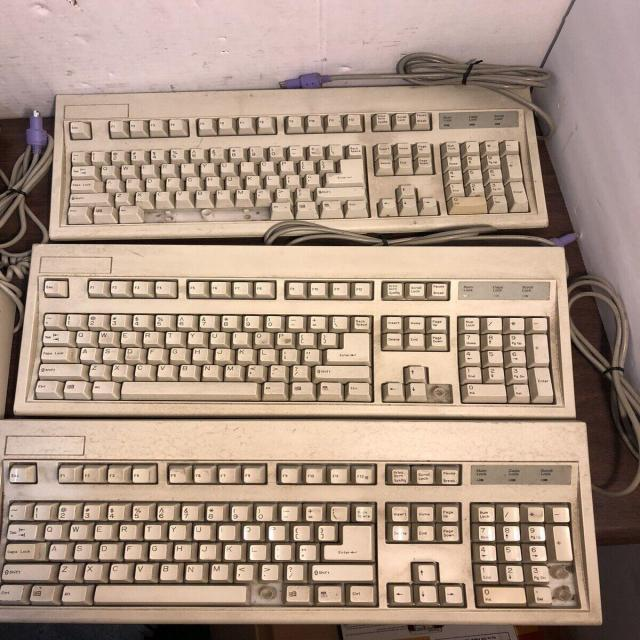keyboard: (0, 424, 602, 621), (22, 247, 577, 418), (50, 83, 543, 231)
